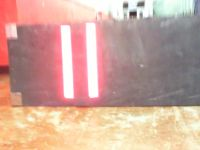switch: (60, 25, 74, 98), (86, 23, 99, 98)
